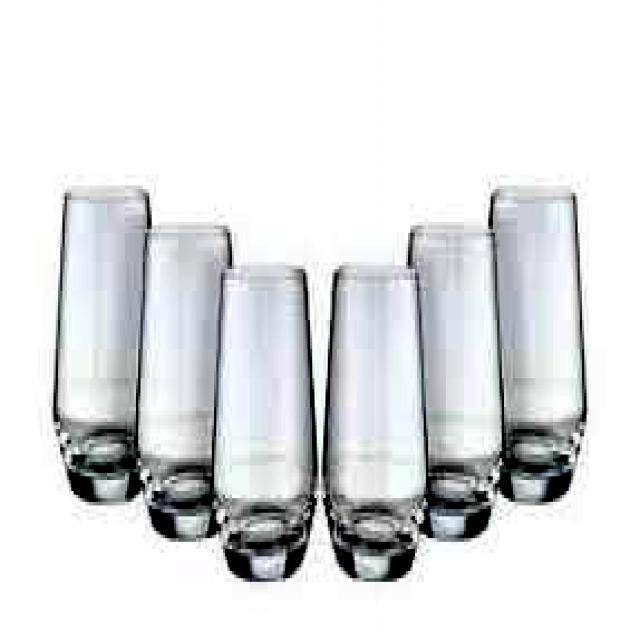Glass: (319, 256, 430, 591), (207, 257, 318, 591), (50, 182, 150, 513)
